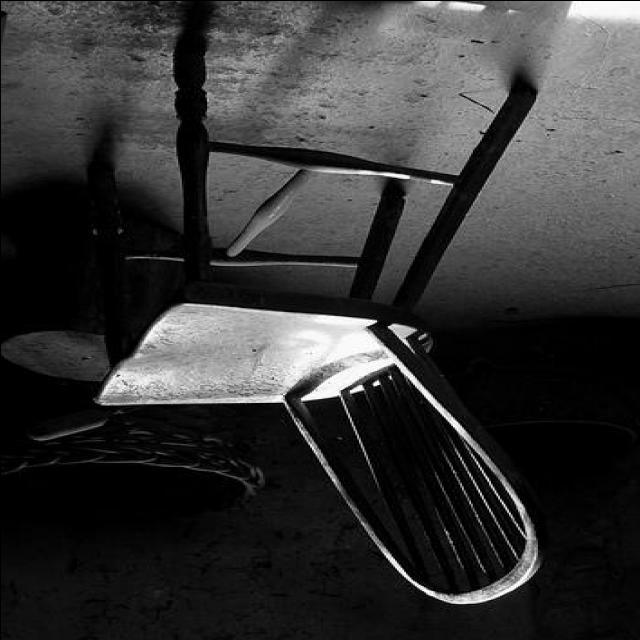chair: (84, 49, 562, 606)
